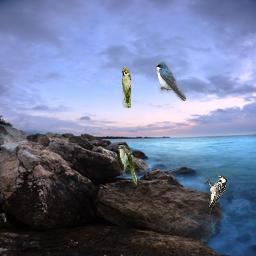Cuckoo: (118, 145, 137, 185)
Sparrow: (122, 68, 131, 108)
Swallow: (155, 61, 186, 101)
Woodpecker: (204, 173, 227, 213)
